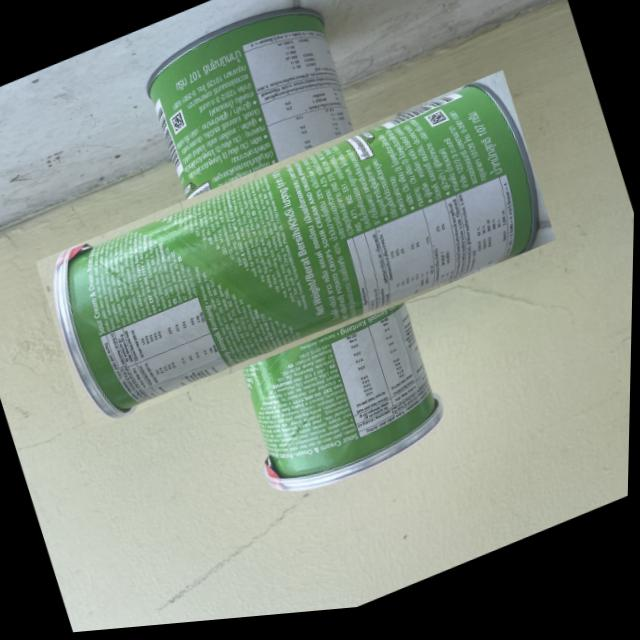a pringles: (82, 29, 513, 483)
